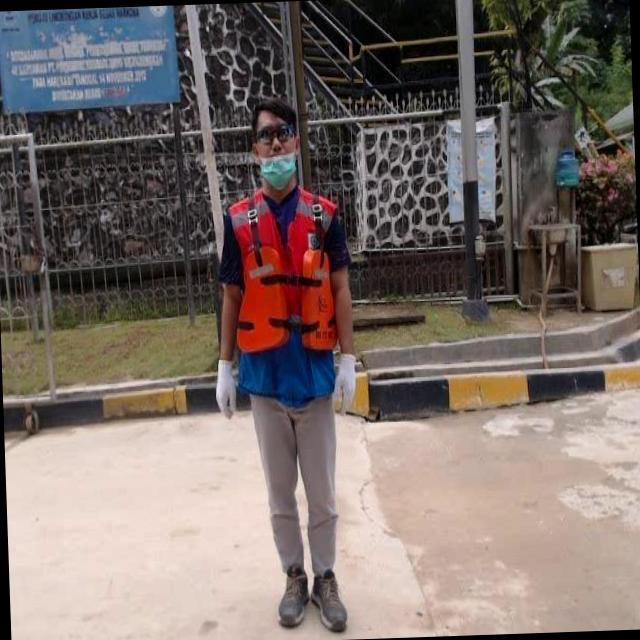gloves: (204, 346, 246, 423), (330, 346, 366, 409)
no-boots: (309, 566, 350, 636), (269, 562, 305, 632)
no-helmet: (238, 78, 325, 212)
vest: (225, 186, 342, 404)
